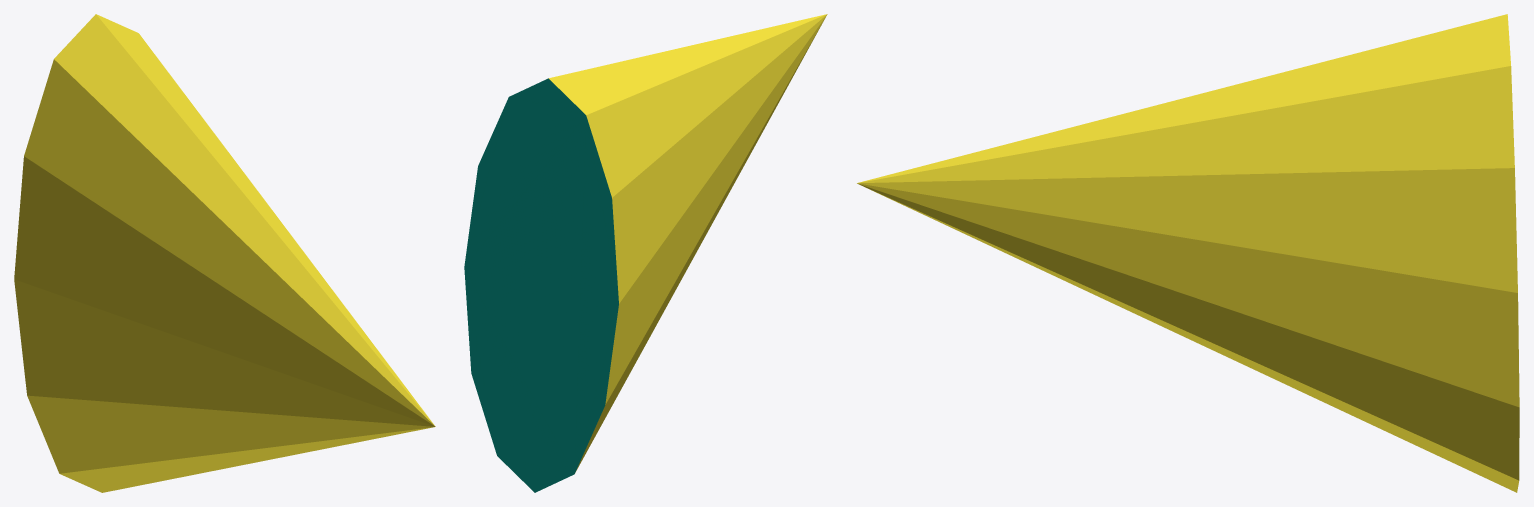
The model's file is n5_n5_group2093058581_lev5.glb.
The picture shows the model from 3 angles, left to right: view 1: azimuth 30°, elevation 25°; view 2: azimuth 150°, elevation 25°; view 3: azimuth 270°, elevation 25°; orthographic projection. The views are drawn at different scales.
Visible parts, largest first — view 1: n5_n5_group2093058581_lev5; view 2: n5_n5_group2093058581_lev5; view 3: n5_n5_group2093058581_lev5.
Boxes of the visible parts, x1,y1,x2,y2 form: n5_n5_group2093058581_lev5: (14, 14, 435, 492); n5_n5_group2093058581_lev5: (464, 14, 827, 492); n5_n5_group2093058581_lev5: (857, 14, 1519, 492).
Bounding box in the file's own units: 0.5872 × 1.55 × 1.97.
